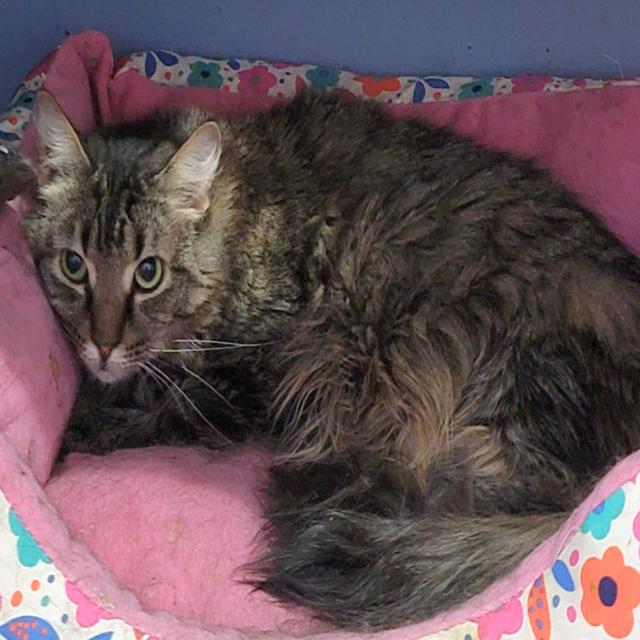maine_coon_cat: (6, 78, 231, 400)
